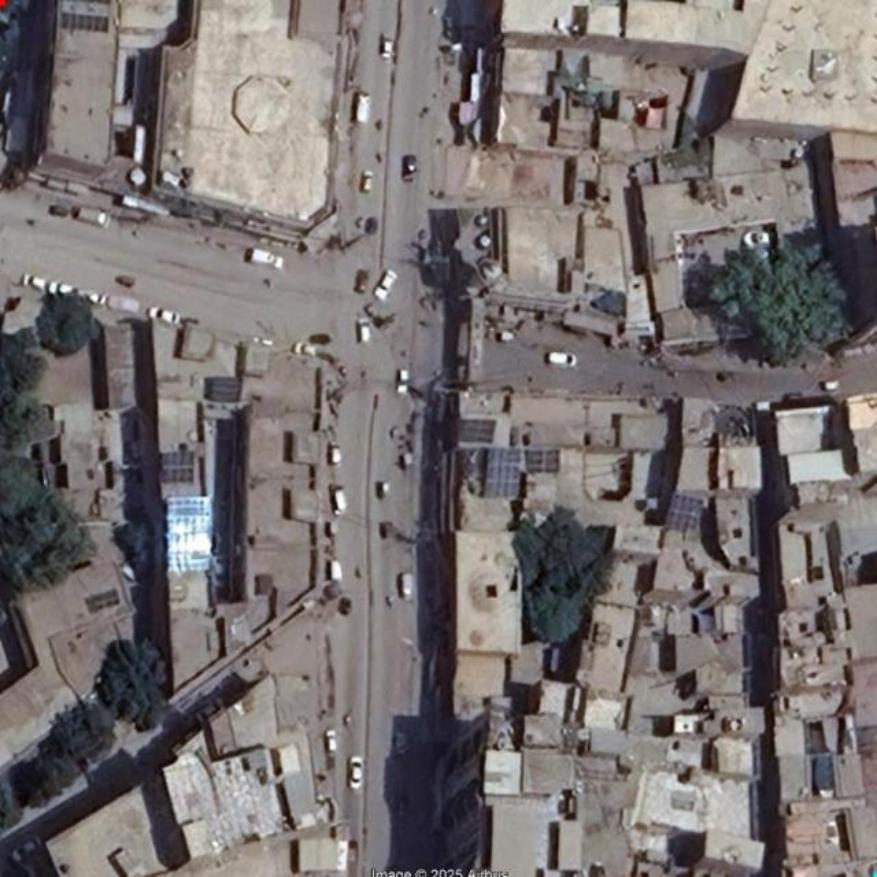Solarpanel: (166, 496, 212, 574), (482, 448, 522, 498), (666, 493, 703, 532), (56, 12, 111, 34), (162, 453, 194, 483), (214, 377, 245, 405), (525, 448, 558, 473)
